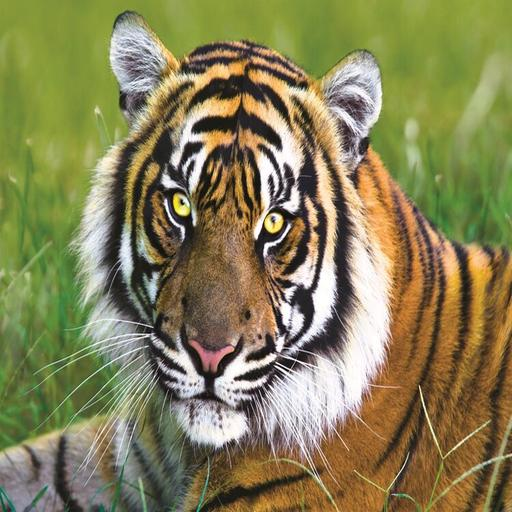Tiger: (0, 5, 512, 512)
